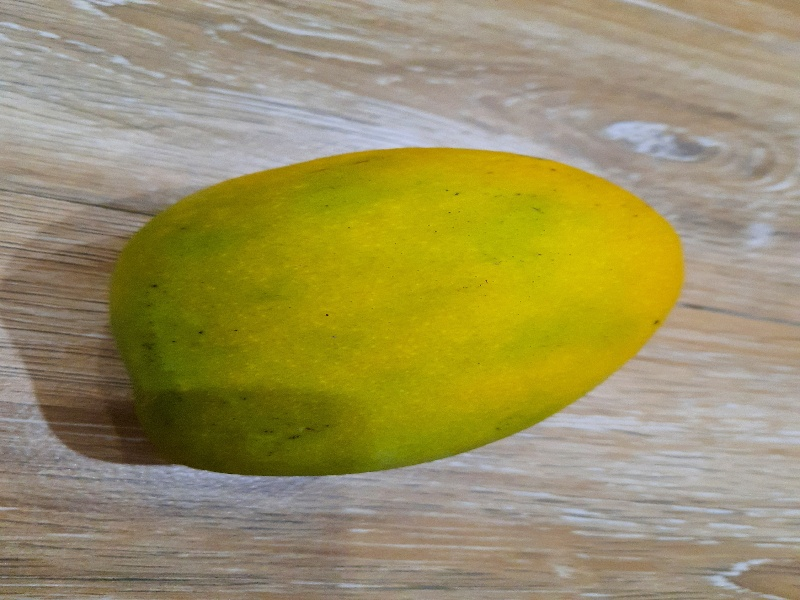fruit: (108, 142, 690, 477)
